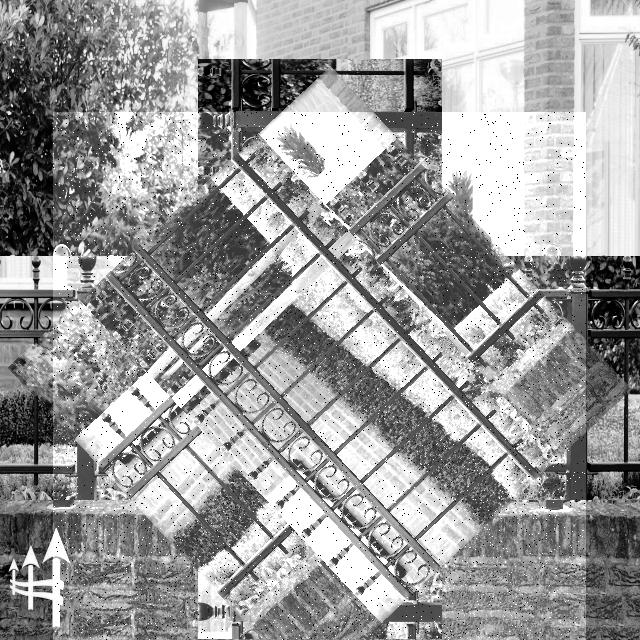fences: (53, 112, 586, 640)
